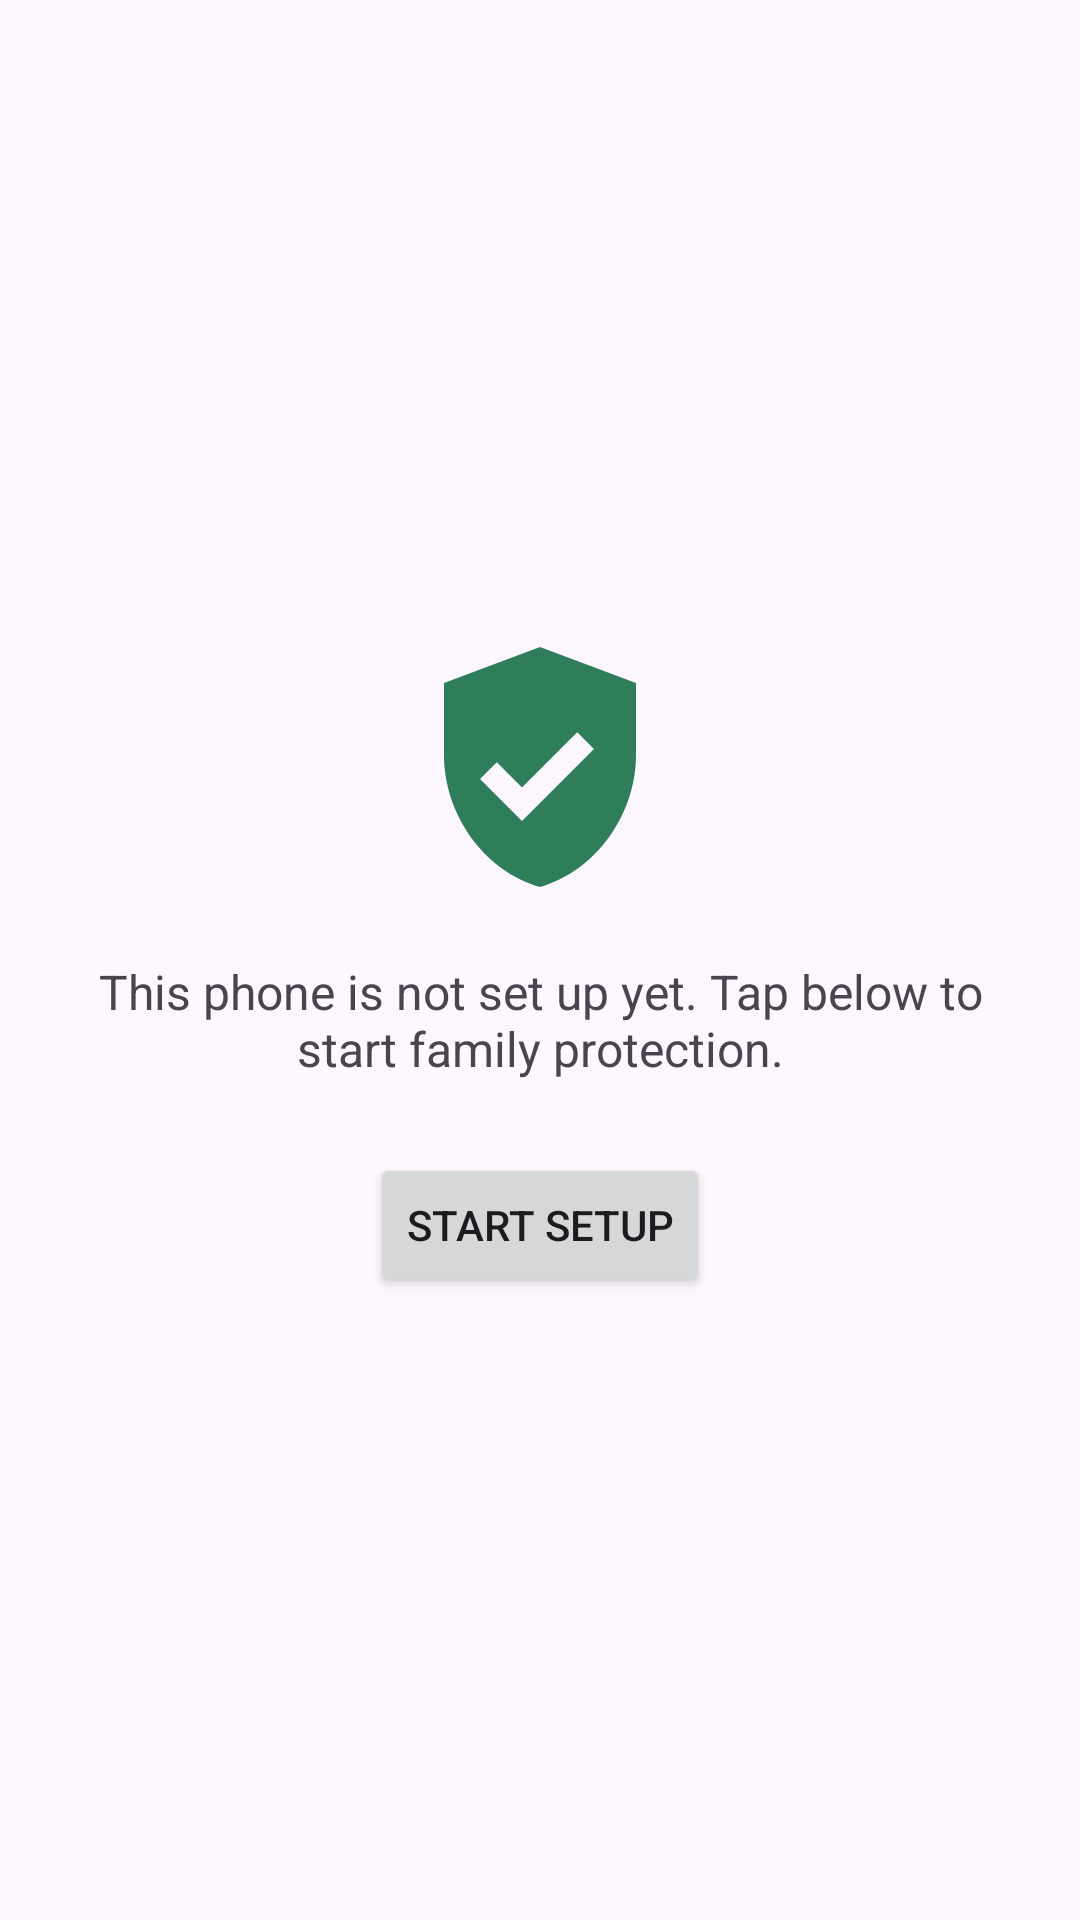

Locate icon controls on the screen. Image size 1080 × 1920, boxes as (x1, y1, x2, y2).
shield: (444, 647, 636, 887)
